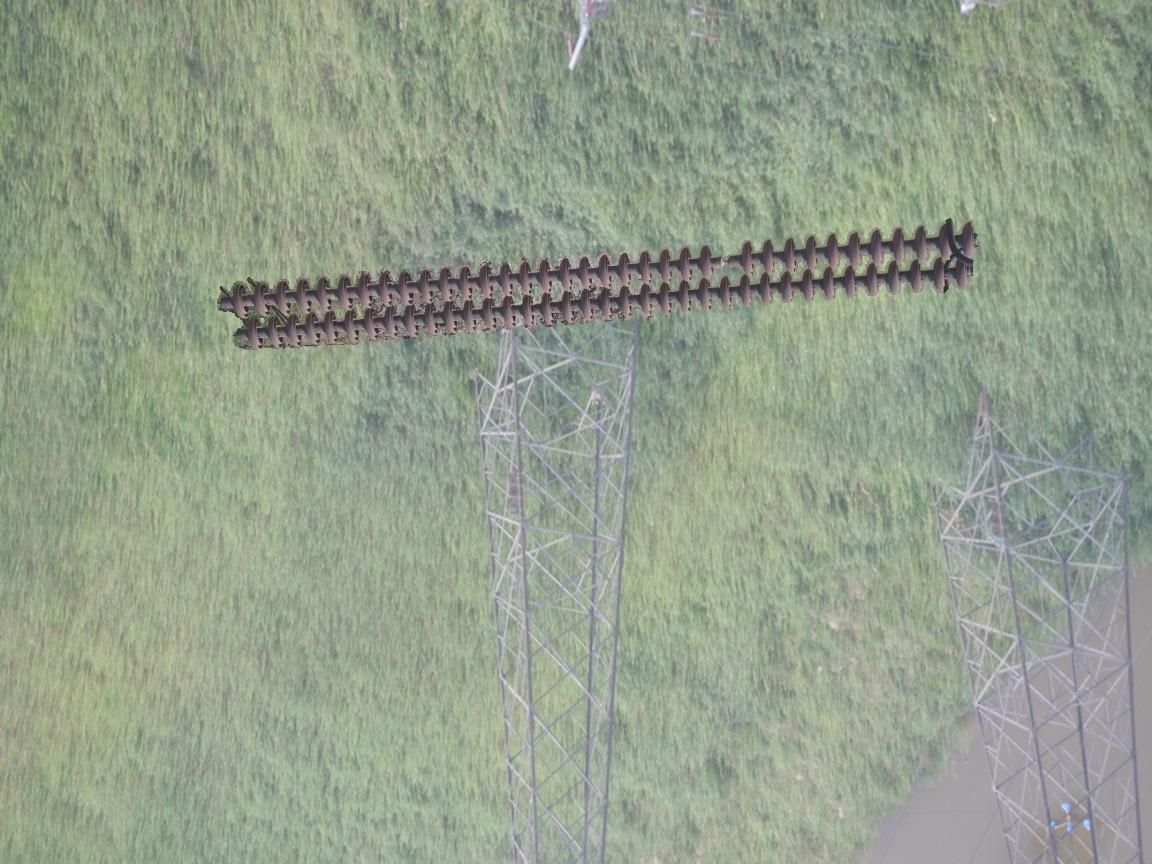insulator: (210, 210, 985, 351)
insulator_stringdrop: (697, 238, 758, 281)
